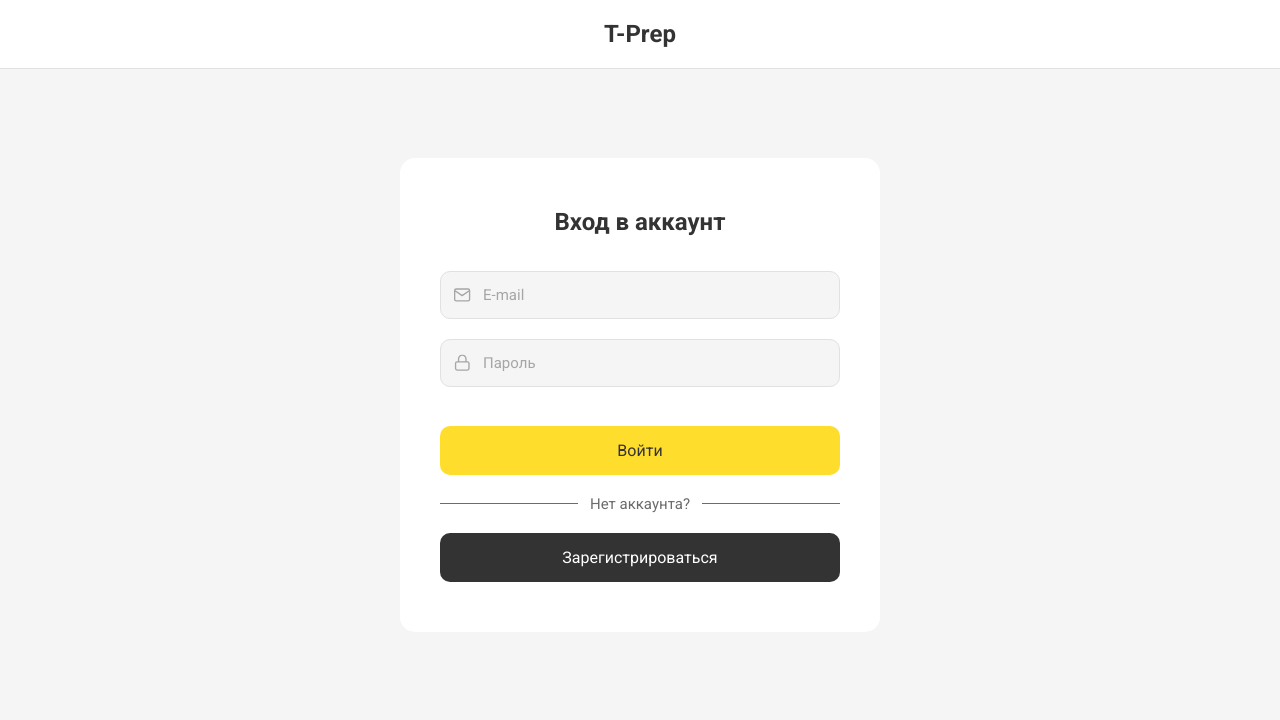
Scenario: Login › should show connection error for unknown login error
Type "test@example.com" into the field with placeholder "E-mail".
click(640, 294); type("test@example.com")  # box [440,270,840,318]
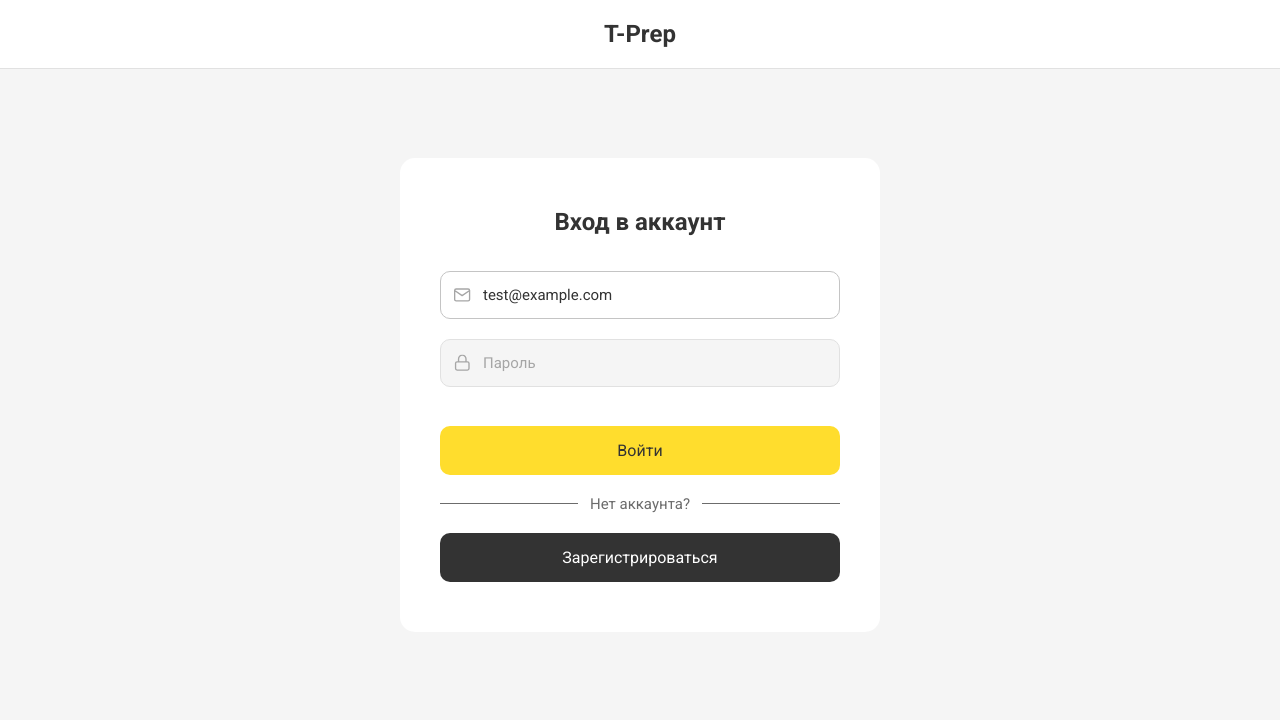
Type "password123" into the password field with placeholder "Пароль".
click(640, 362); type("password123")  # box [440,338,840,386]
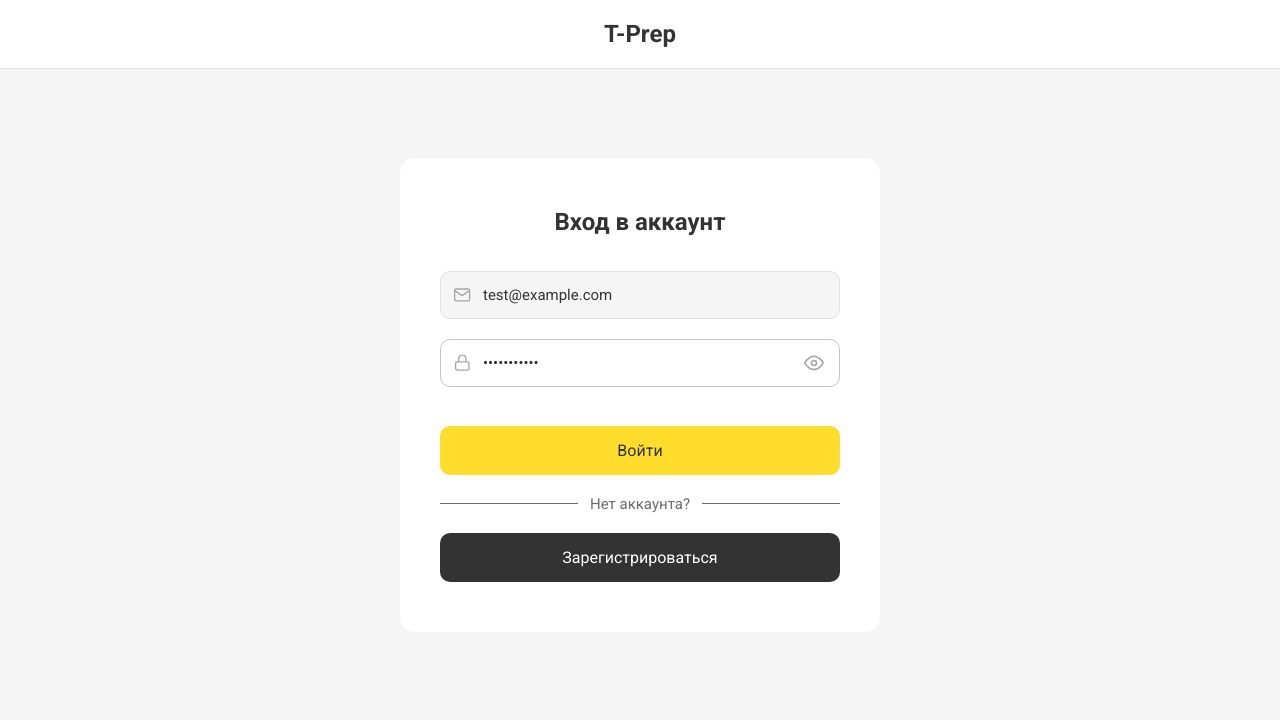
Click the button "Войти".
click(640, 450)  # box [440,426,840,474]
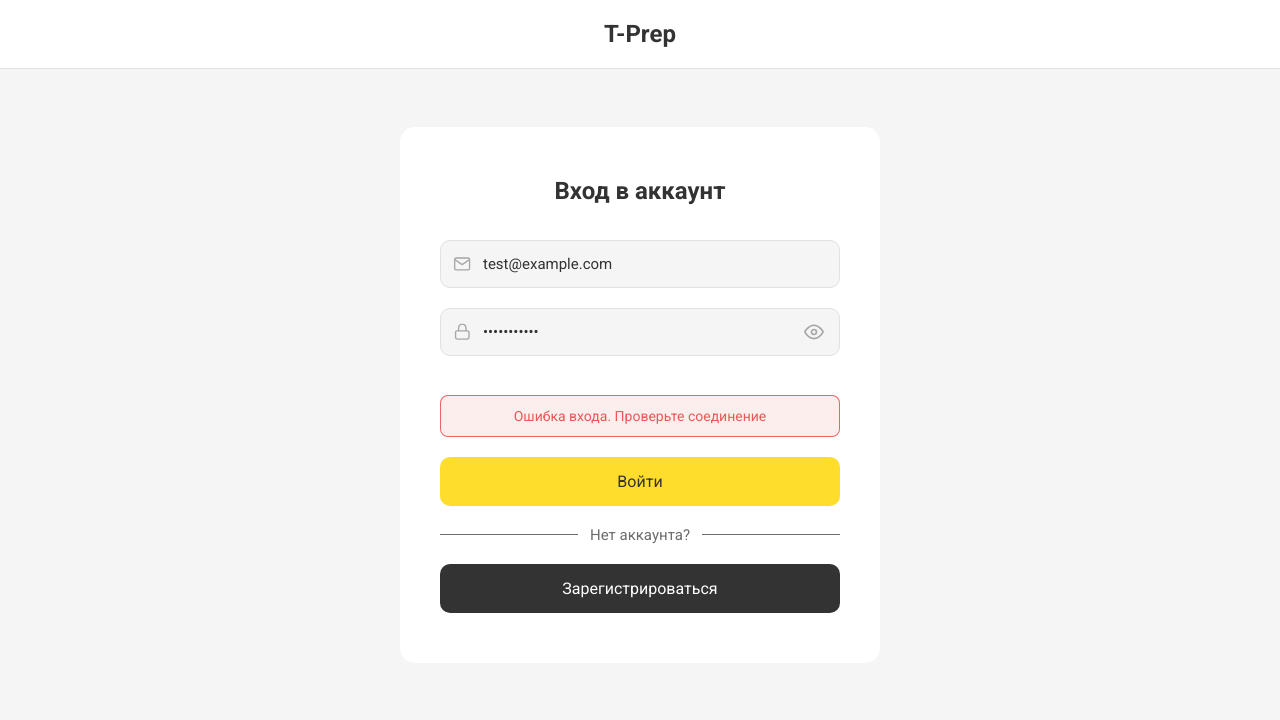
Result: the text "Ошибка входа. Проверьте соединение" is shown at [440,394,840,436]
